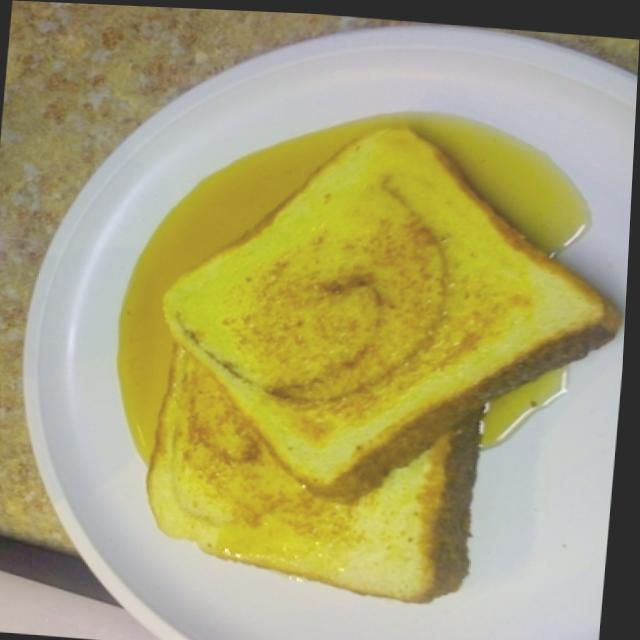面包点心: (35, 35, 639, 640)
